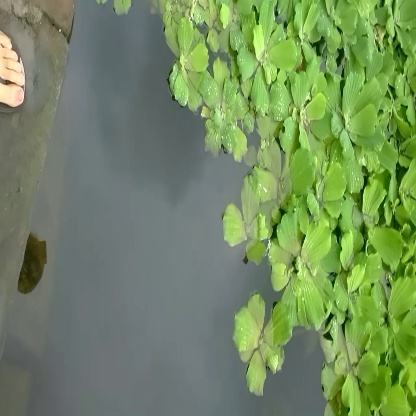leaf: (231, 293, 294, 389)
